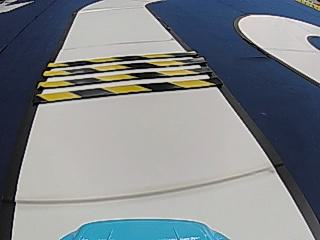bump: (31, 48, 219, 109)
